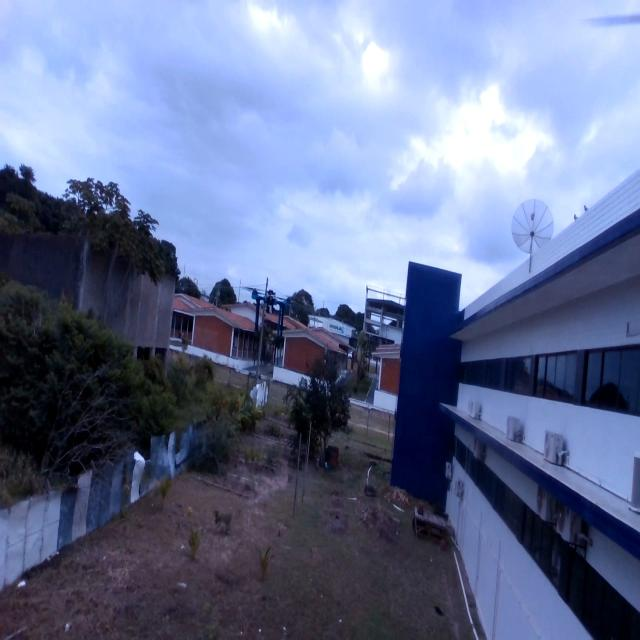-uav-: (242, 268, 296, 350)
